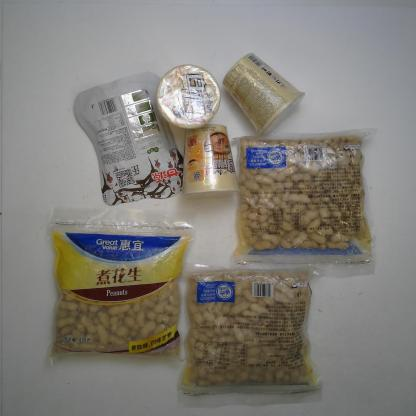Dried Food: (46, 208, 191, 363), (177, 261, 319, 404), (229, 131, 373, 272)
Dried Fruit: (73, 74, 188, 204)
Instant Noodles: (223, 52, 308, 135), (183, 120, 239, 195), (157, 64, 220, 126)
